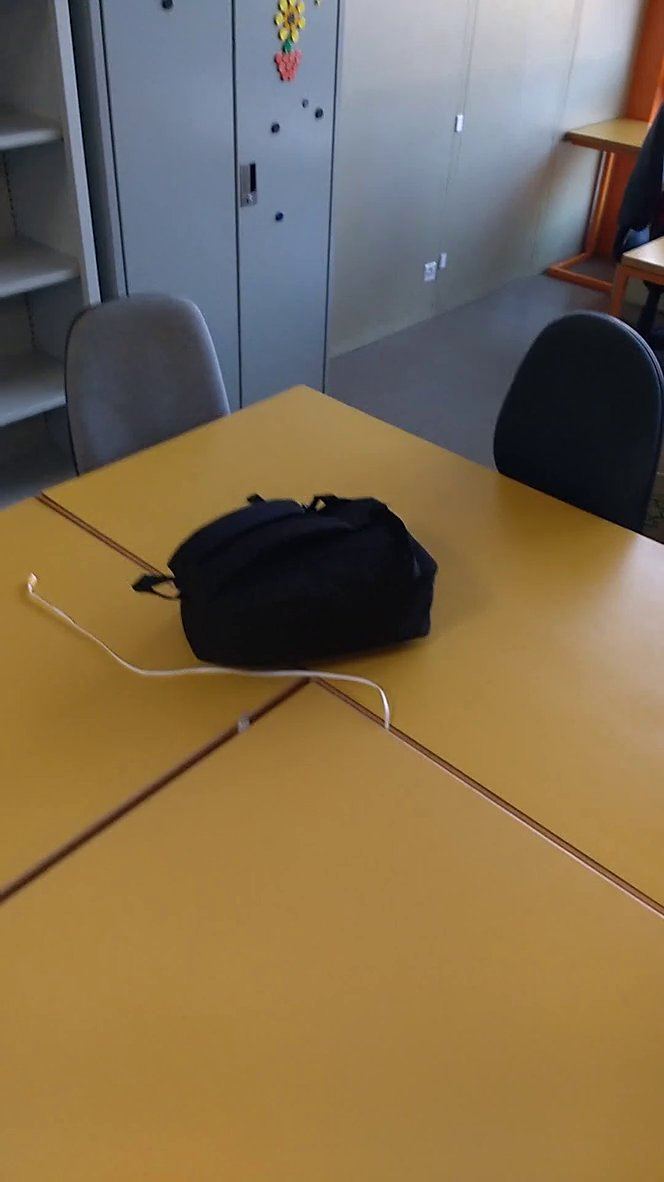bag: (107, 480, 452, 679)
chair: (475, 296, 664, 552), (52, 283, 247, 486)
